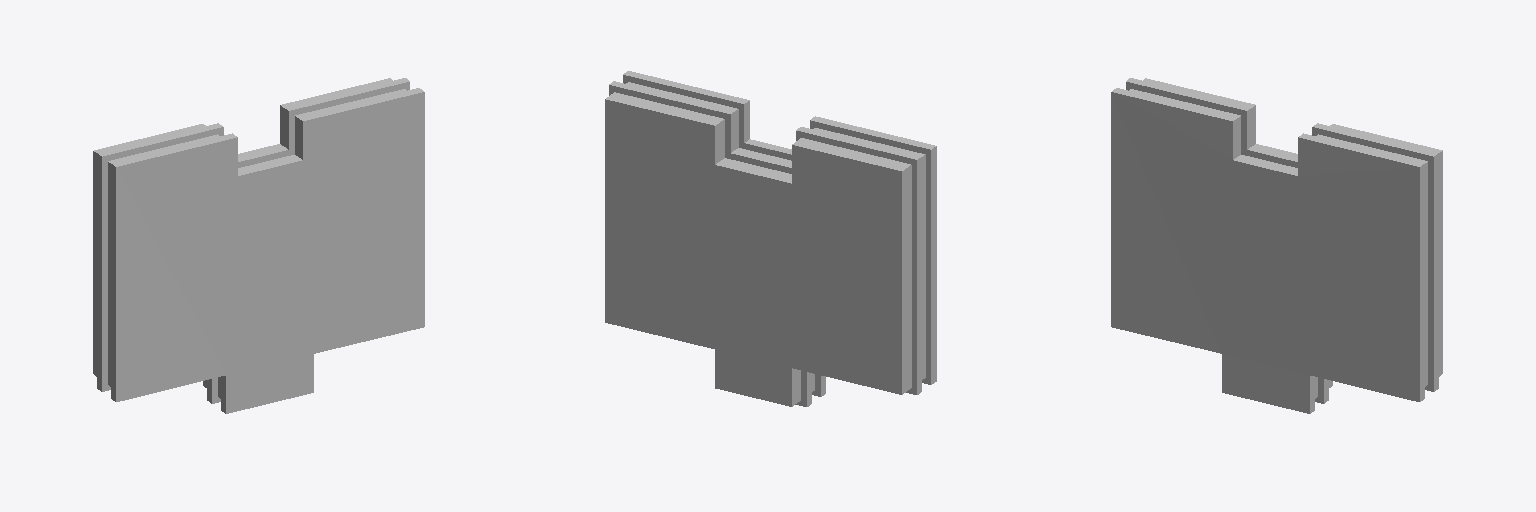
The model's file is ComplexBuildingFinal.obj.
3 renders of one model, left to right at view 1: azimuth 30°, elevation 25°; view 2: azimuth 150°, elevation 25°; view 3: azimuth 330°, elevation 25°, orthographic.
Visible parts, largest first — view 1: Cube_Cube.005; view 2: Cube_Cube.005; view 3: Cube_Cube.005.
Part boxes in pixels (bbox=[...]): Cube_Cube.005: bbox=[93, 78, 424, 413]; Cube_Cube.005: bbox=[605, 71, 936, 406]; Cube_Cube.005: bbox=[1111, 78, 1442, 413].
Size of the model in its own units: 50.63 by 43.03 by 8.24.